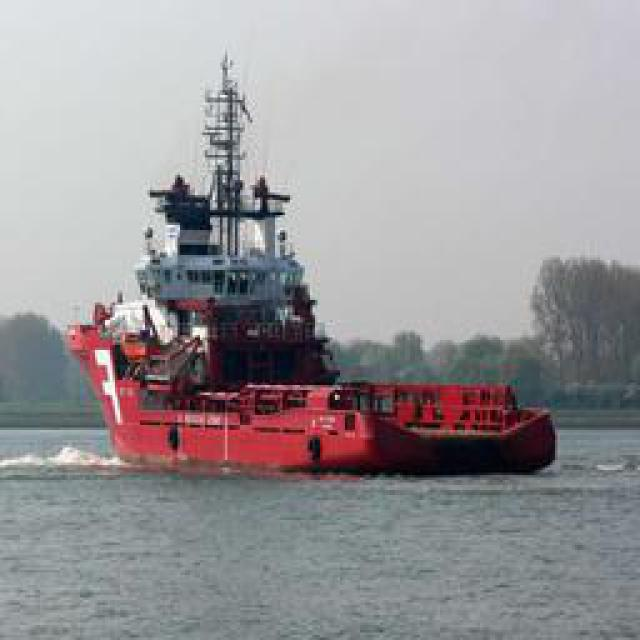Ship: (69, 41, 472, 474)
